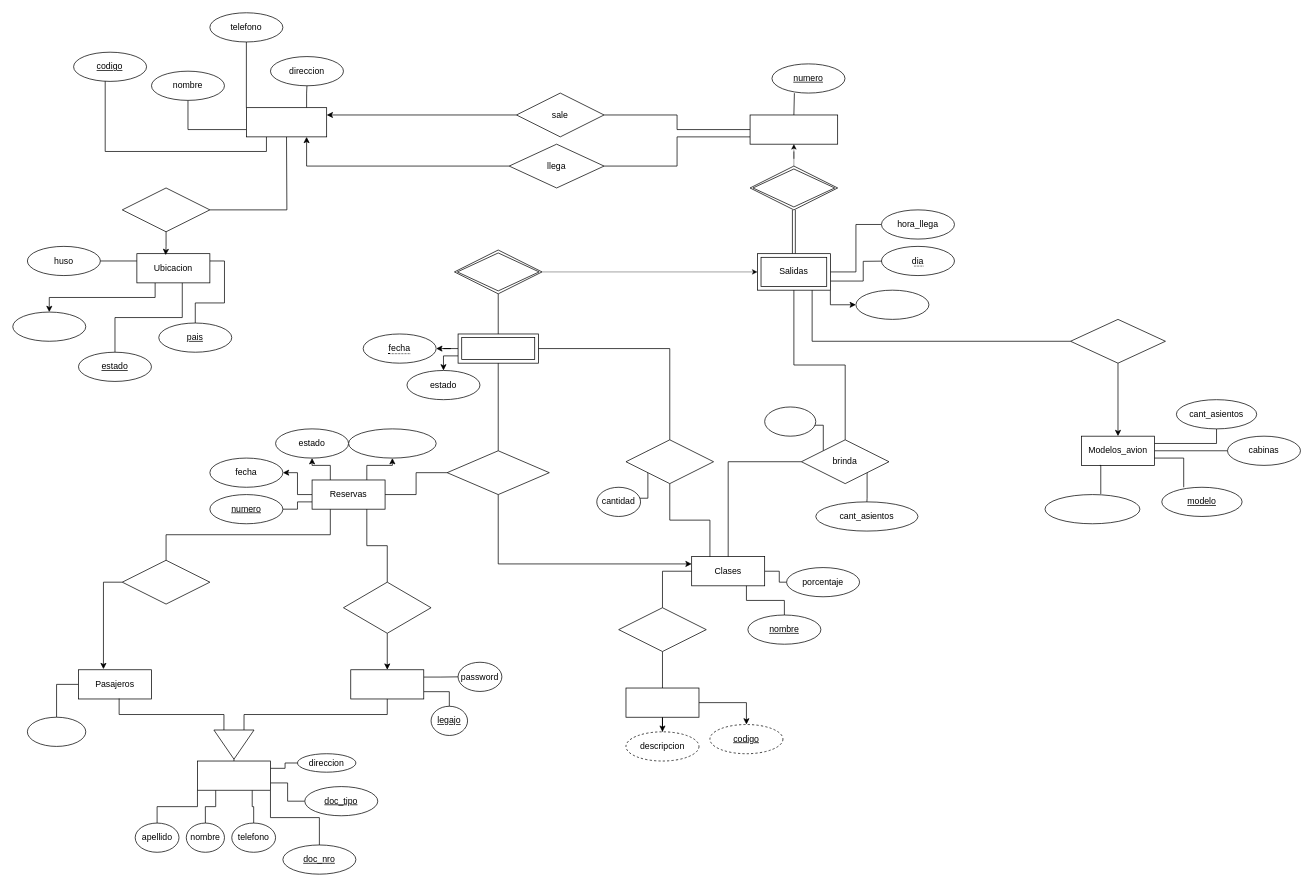
This 1313x887 diagram has some shape labels left out. Each missing label, with the box of its shape:
Aeropuertos: (246, 107, 327, 137)
asientos_ reservados: (625, 439, 714, 484)
asignado: (1070, 319, 1165, 363)
asociada: (122, 560, 210, 604)
ciudad: (12, 311, 86, 341)
Comodidades: (625, 687, 699, 717)
corresponde: (749, 165, 838, 210)
Empleados: (350, 669, 424, 699)
esUn: (213, 729, 254, 759)
fabricante: (1044, 494, 1140, 524)
hora_sale: (855, 289, 929, 319)
Instancias_vuelo: (457, 333, 538, 363)
nacionalidad: (27, 716, 86, 746)
Persona: (197, 760, 270, 790)
posee: (618, 607, 706, 652)
precio: (764, 406, 816, 436)
realizo: (343, 581, 431, 633)
reserva_ vuelo_ clase: (446, 450, 549, 495)
ubicadoEn: (122, 187, 210, 232)
vencimiento: (348, 428, 436, 458)
Vuelos_programados: (749, 114, 838, 144)
